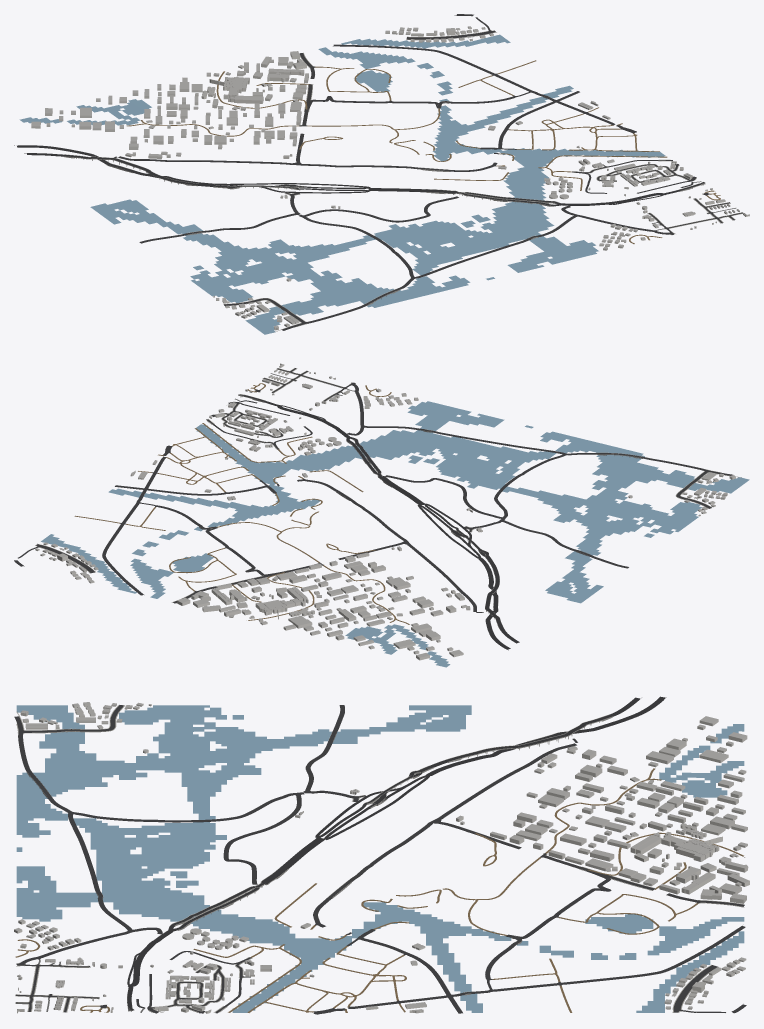
The model's file is chunk_6_6.glb.
3 views of the same model, one above another, from view 1: azimuth 30°, elevation 25°; view 2: azimuth 150°, elevation 25°; view 3: azimuth 270°, elevation 25° (orthographic). The views are drawn at different scales.
Visible parts, largest first — view 1: Water_6_6, Roads_6_6, Filler_6_6, Buildings_6_6, RoadSides_6_6; view 2: Water_6_6, Roads_6_6, Filler_6_6, Buildings_6_6, RoadSides_6_6; view 3: Water_6_6, Roads_6_6, Filler_6_6, Buildings_6_6, RoadSides_6_6.
Part boxes in pixels (x1,y1,x2,y2): Water_6_6: (20,34,665,334); Roads_6_6: (14,14,743,330); Filler_6_6: (31,26,645,326); Buildings_6_6: (161,68,749,330); RoadSides_6_6: (63,30,742,332); Water_6_6: (41,401,749,667); Roads_6_6: (14,368,732,650); Filler_6_6: (35,388,727,660); Buildings_6_6: (130,363,735,619); RoadSides_6_6: (35,368,741,629); Water_6_6: (16,705,744,1012); Roads_6_6: (14,696,746,1014); Filler_6_6: (14,702,749,1009); Buildings_6_6: (17,710,731,1013); RoadSides_6_6: (15,705,744,1012).
Size of the model in its own units: 2070 by 33.51 by 2071.
